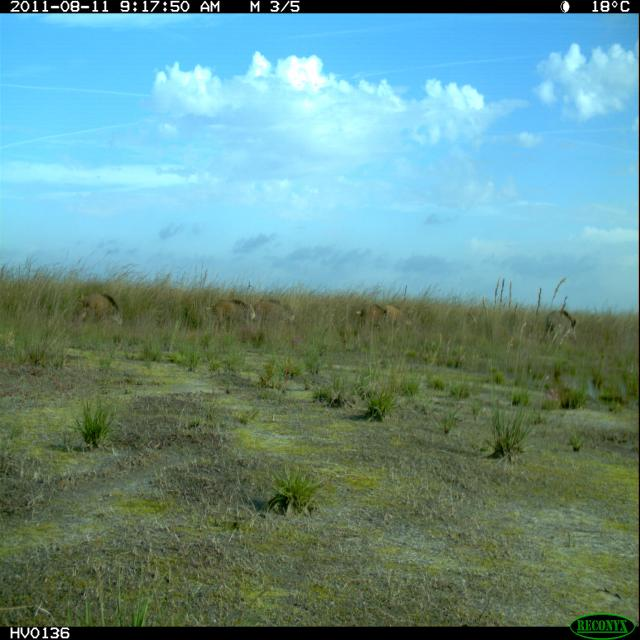boar: (520, 285, 591, 353), (188, 281, 264, 343), (64, 274, 139, 333), (349, 297, 422, 347), (335, 286, 399, 338), (243, 286, 300, 339)
